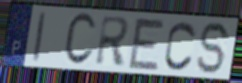C: (62, 11, 98, 68), (163, 20, 199, 73)
E: (126, 15, 167, 72)
I: (31, 10, 48, 64)
R: (94, 14, 132, 67)
S: (195, 20, 234, 75)
